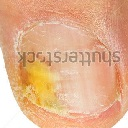Nail Fungal Infection: (16, 58, 57, 107)
